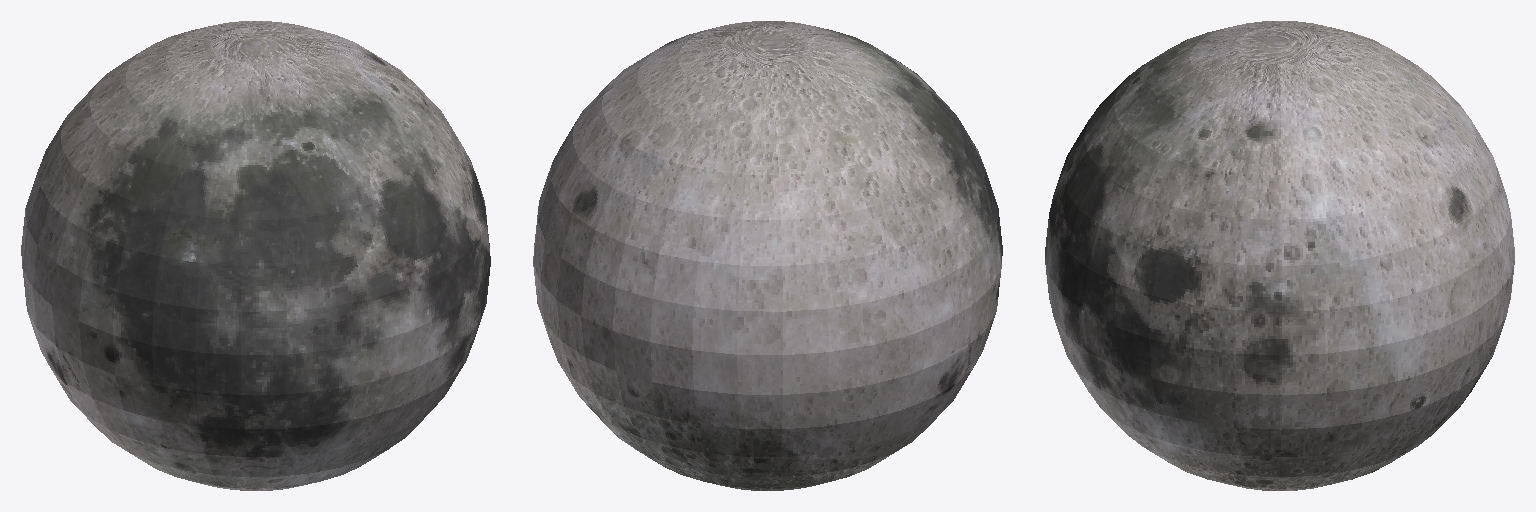
The picture shows the model from 3 angles: view 1: azimuth 30°, elevation 25°; view 2: azimuth 150°, elevation 25°; view 3: azimuth 270°, elevation 25°; orthographic projection.
Parts seen in each view (by area): view 1: Sphere; view 2: Sphere; view 3: Sphere.
Part boxes in pixels (x1,y1,x2,y2): Sphere: (21,21,490,490); Sphere: (533,21,1002,490); Sphere: (1045,21,1514,490).
Bounding box in the file's own units: 2 × 2 × 2.
Materials: 1 (1 with a texture image).